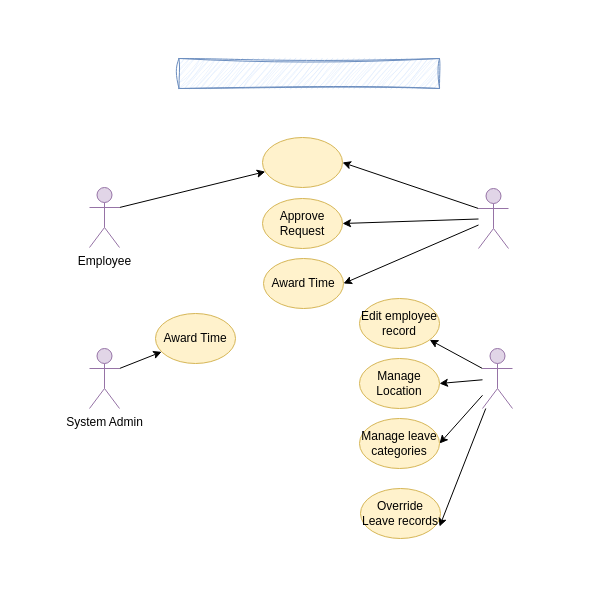
The diagram is 594 pixels wide and 594 high, and some of its shapes have lost their labels. Each missing label, with the box of its shape:
Clerck: (482, 348, 512, 408)
Manage Time: (262, 136, 342, 188)
Manager: (478, 188, 508, 248)
Top Level Use Case Model: (178, 58, 440, 88)
